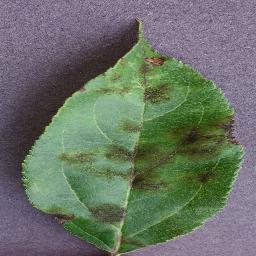apple healthy: (19, 17, 246, 255)
